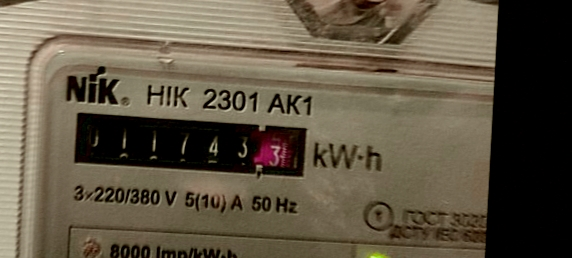0: (86, 120, 101, 149)
1: (147, 124, 160, 152), (118, 122, 129, 150)
3: (235, 131, 251, 159), (266, 142, 281, 168)
4: (205, 130, 221, 158)
7: (175, 125, 192, 154)
screen: (62, 100, 319, 188)
